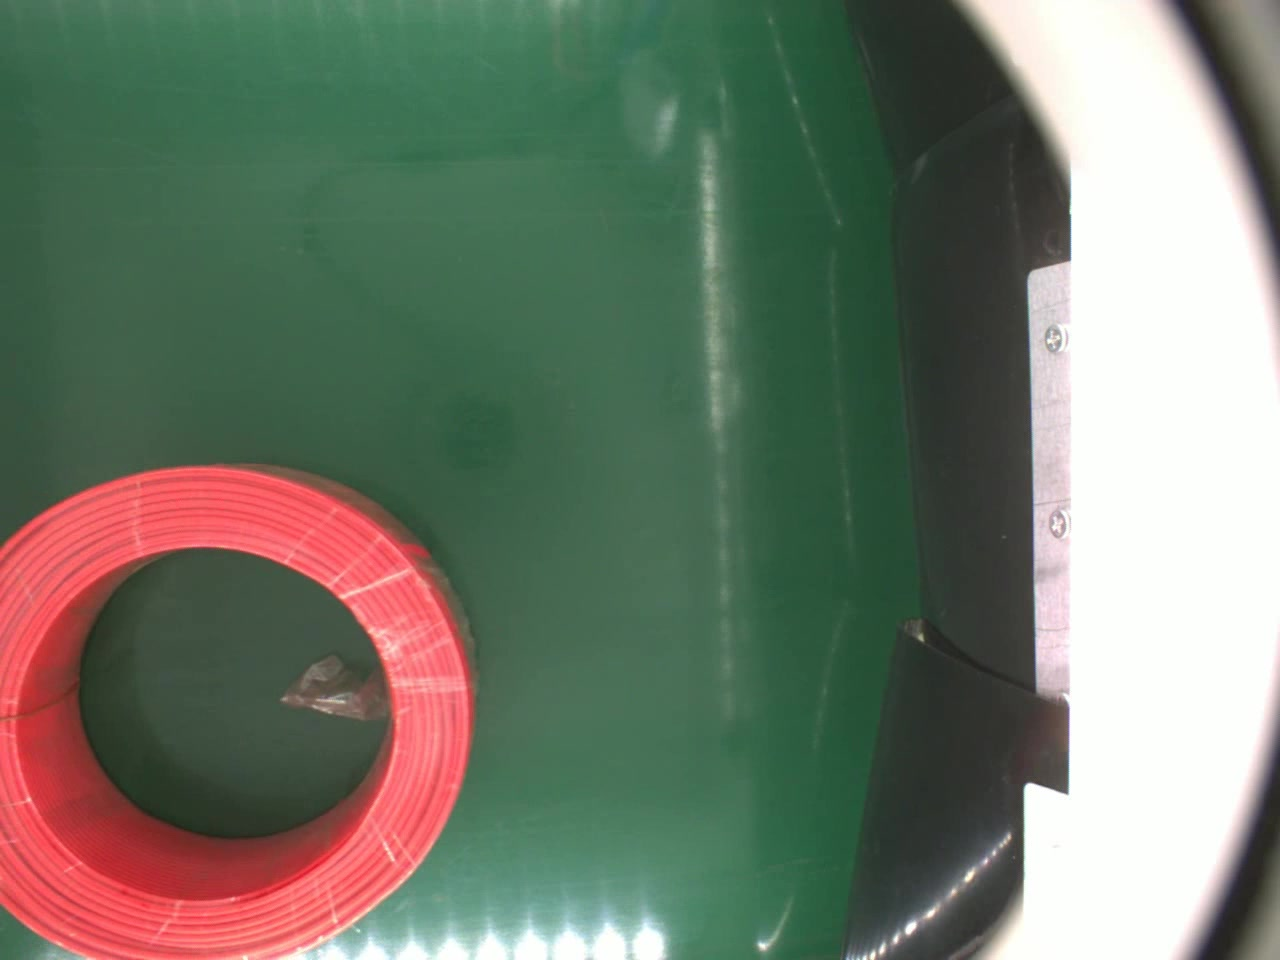red: (0, 459, 482, 960)
